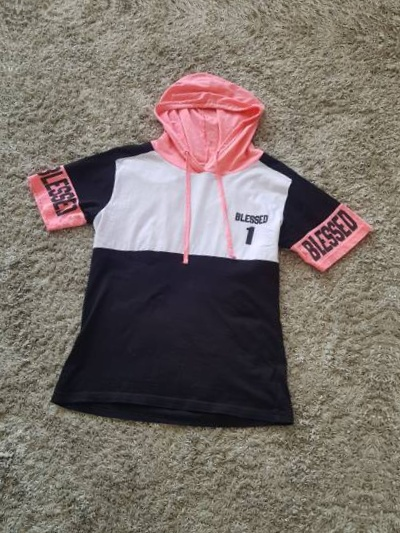Hoodie: (7, 54, 400, 459), (387, 104, 400, 509)
